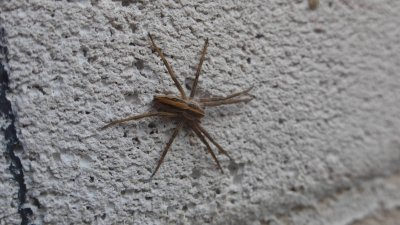spider: (89, 18, 265, 189)
